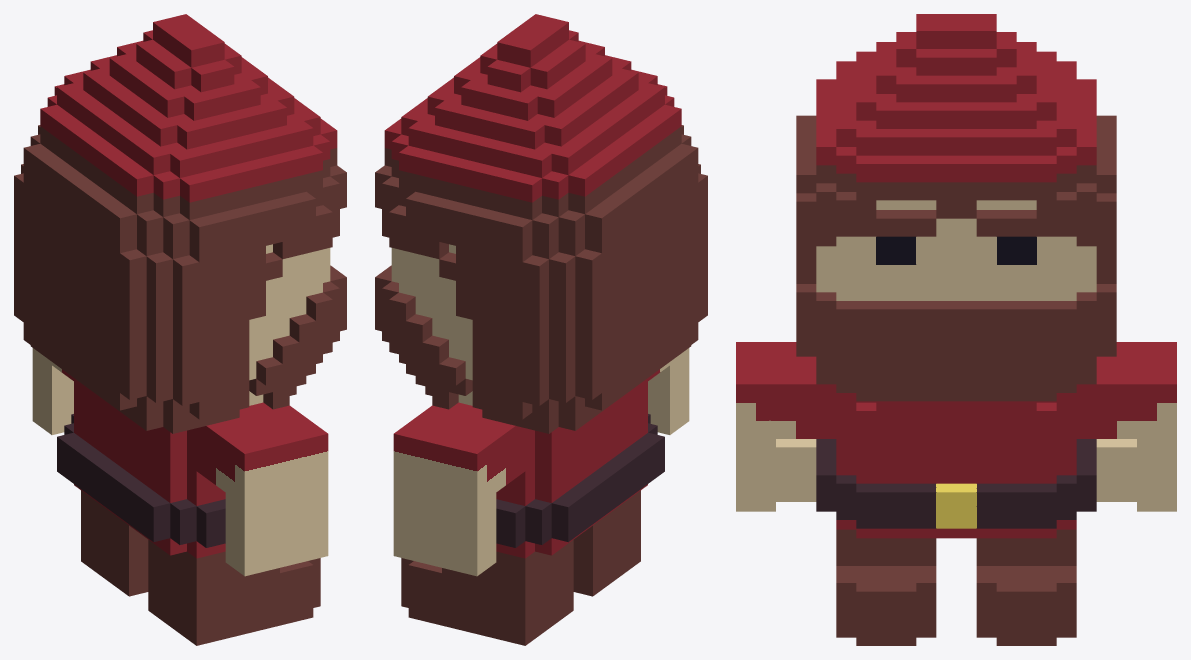
File: Strong Gnome.gltf
The picture shows the model from 3 angles, left to right: view 1: azimuth 30°, elevation 25°; view 2: azimuth 150°, elevation 25°; view 3: azimuth 270°, elevation 25°; orthographic projection. The views are drawn at different scales.
Parts seen in each view (by area): view 1: HairB03, HairR03, ArmR, FootR, HandR, ChestB, BeltB, HairB04, Hat02, HairBR01, HatR02, HatR01 (+39 smaller); view 2: HairB03, HairL03, ArmL, FootL, HandL, ChestB, BeltB, HairB04, Hat02, HairBL01, HatL02, HatL01 (+39 smaller); view 3: Head04, ChestF, BeardF04, BeltF, ArmR, ArmL, Hat02, HatF01, Hat03, FootR, FootL, Chest (+46 smaller).
Part boxes in pixels (bbox=[...]): HairB03: bbox=[14, 173, 146, 399]; HairR03: bbox=[173, 250, 249, 405]; ArmR: bbox=[196, 402, 328, 506]; FootR: bbox=[148, 558, 313, 645]; HandR: bbox=[225, 486, 328, 576]; ChestB: bbox=[74, 378, 186, 555]; BeltB: bbox=[57, 432, 170, 542]; HairB04: bbox=[23, 143, 136, 253]; Hat02: bbox=[57, 81, 320, 174]; HairBR01: bbox=[146, 252, 172, 402]; HatR02: bbox=[170, 121, 313, 177]; HatR01: bbox=[180, 145, 322, 202]; HairB03: bbox=[575, 173, 707, 399]; HairL03: bbox=[472, 250, 548, 405]; ArmL: bbox=[393, 402, 525, 506]; FootL: bbox=[408, 558, 573, 645]; HandL: bbox=[393, 486, 496, 576]; ChestB: bbox=[535, 378, 647, 555]; BeltB: bbox=[551, 432, 664, 542]; HairB04: bbox=[585, 143, 698, 253]; Hat02: bbox=[401, 81, 664, 174]; HairBL01: bbox=[549, 252, 575, 402]; HatL02: bbox=[408, 121, 551, 177]; HatL01: bbox=[399, 145, 541, 202]; Head04: bbox=[836, 200, 1076, 300]; ChestF: bbox=[856, 402, 1056, 538]; BeardF04: bbox=[836, 301, 1076, 363]; BeltF: bbox=[856, 483, 1056, 528]; ArmR: bbox=[736, 342, 836, 438]; ArmL: bbox=[1076, 342, 1176, 438]; Hat02: bbox=[856, 120, 1056, 155]; HatF01: bbox=[856, 155, 1056, 182]; Hat03: bbox=[876, 94, 1036, 128]; FootR: bbox=[836, 566, 936, 637]; FootL: bbox=[976, 566, 1076, 637]; Chest: bbox=[836, 393, 1076, 529].
Size of the model in its own units: 0.8125 by 2 by 1.38.
1 material, 1 textured.
